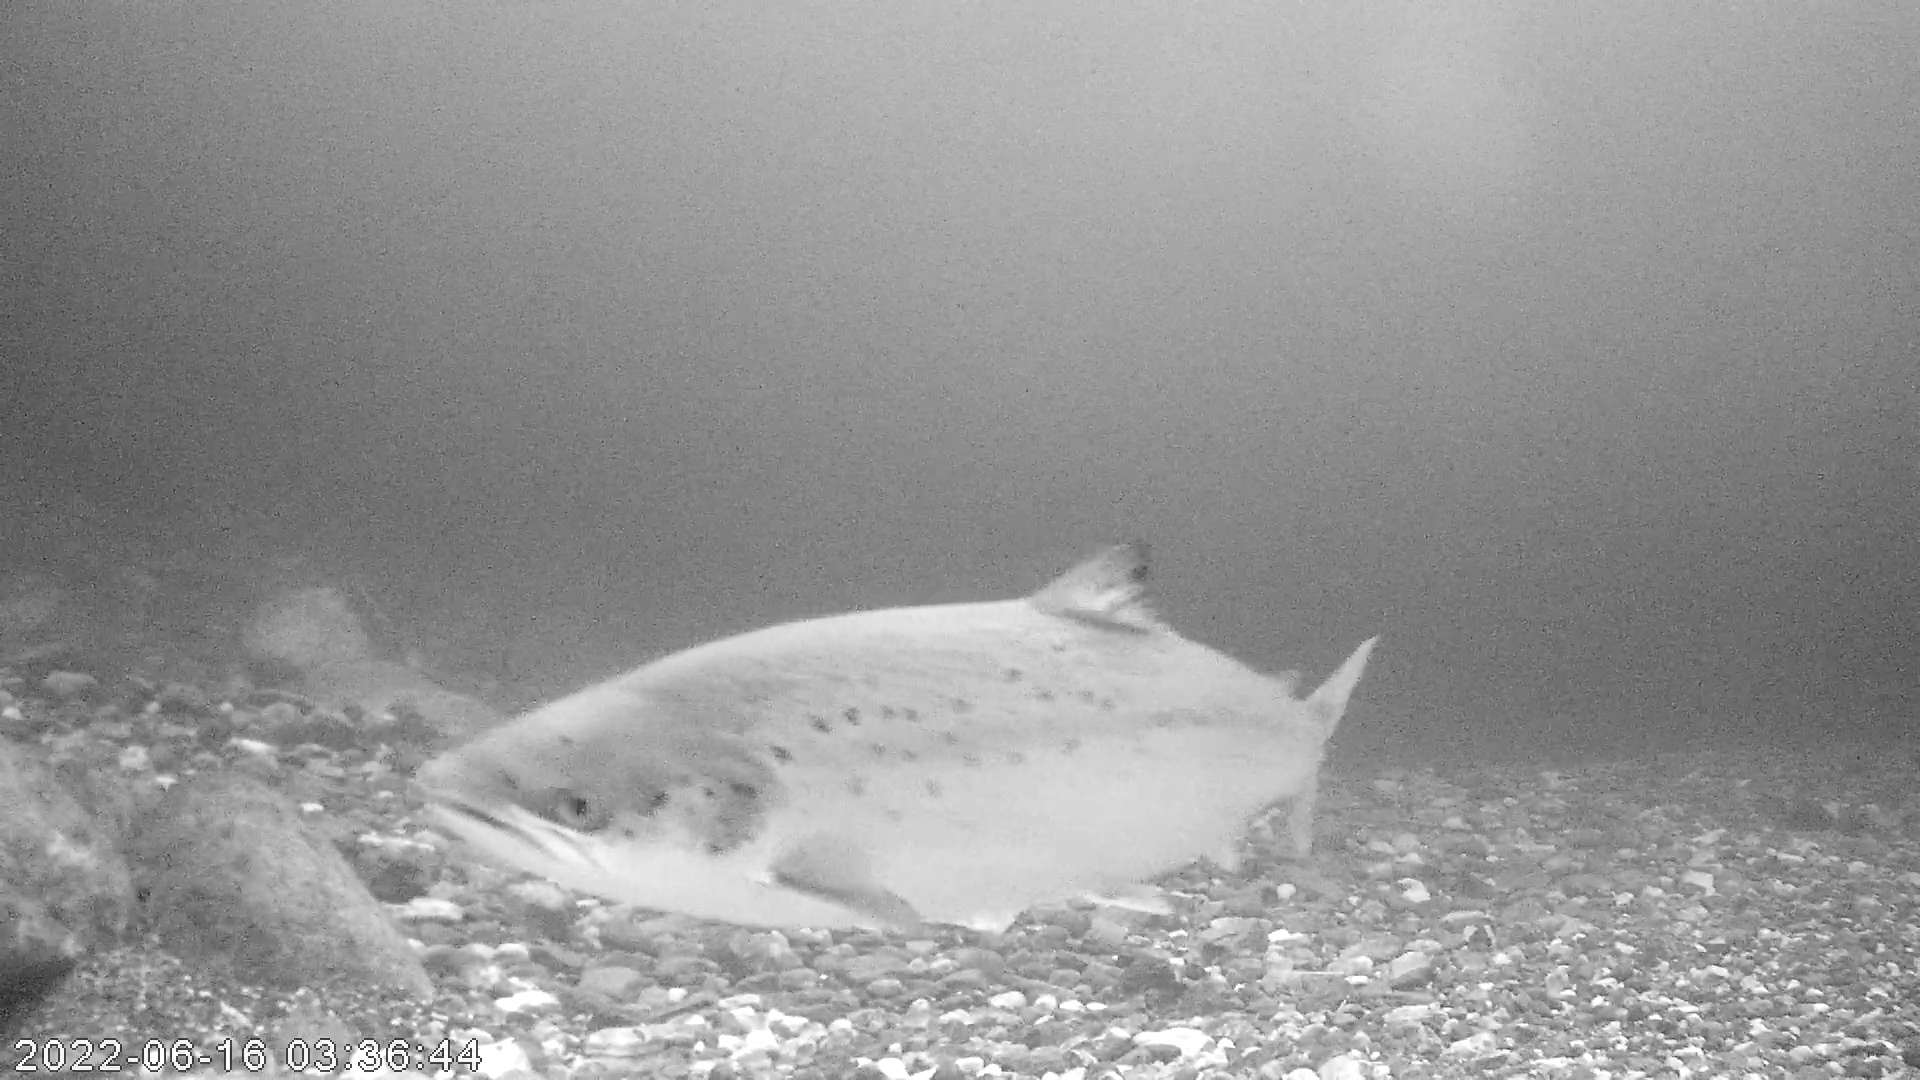salmon: (414, 533, 1385, 931)
